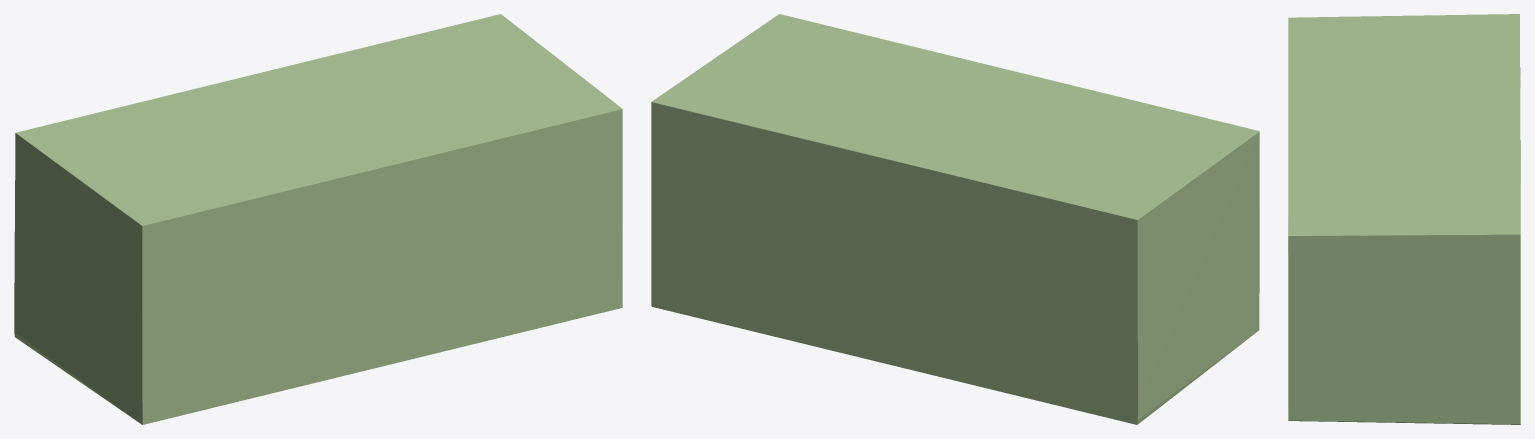
The model's file is storage_tire_rack_b01.glb.
The picture shows the model from 3 angles, left to right: view 1: azimuth 30°, elevation 25°; view 2: azimuth 150°, elevation 25°; view 3: azimuth 270°, elevation 25°; orthographic projection. The views are drawn at different scales.
Visible parts, largest first — view 1: geometry_0; view 2: geometry_0; view 3: geometry_0.
Part boxes in pixels (x1,y1,x2,y2): geometry_0: (14, 14, 622, 424); geometry_0: (651, 14, 1259, 424); geometry_0: (1288, 14, 1520, 424).
Size of the model in its own units: 0.4799 by 0.1931 by 0.2134.
